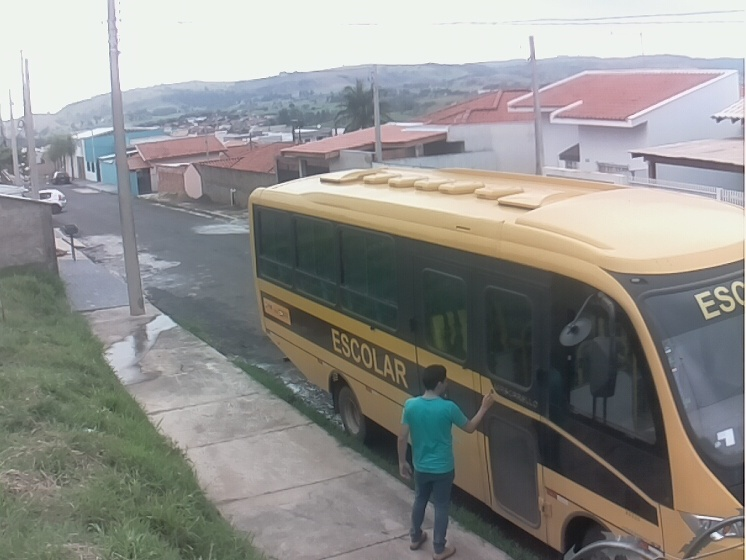person: (395, 363, 494, 560)
